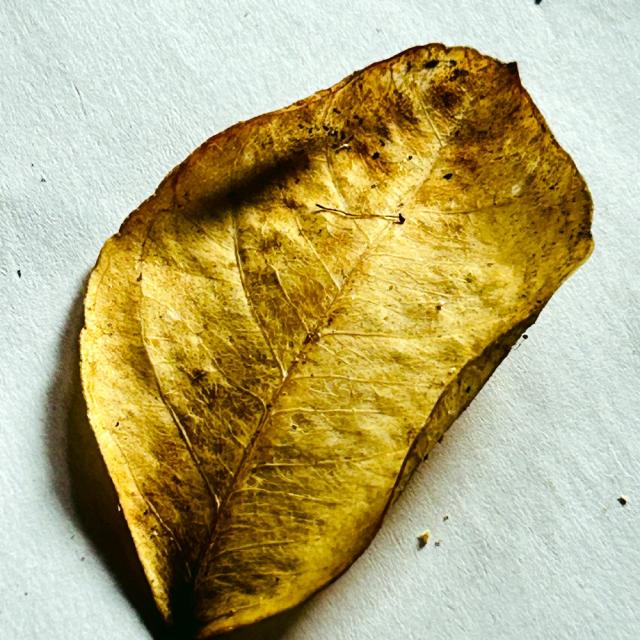DryLeaf_Lemon: (80, 44, 593, 637)
